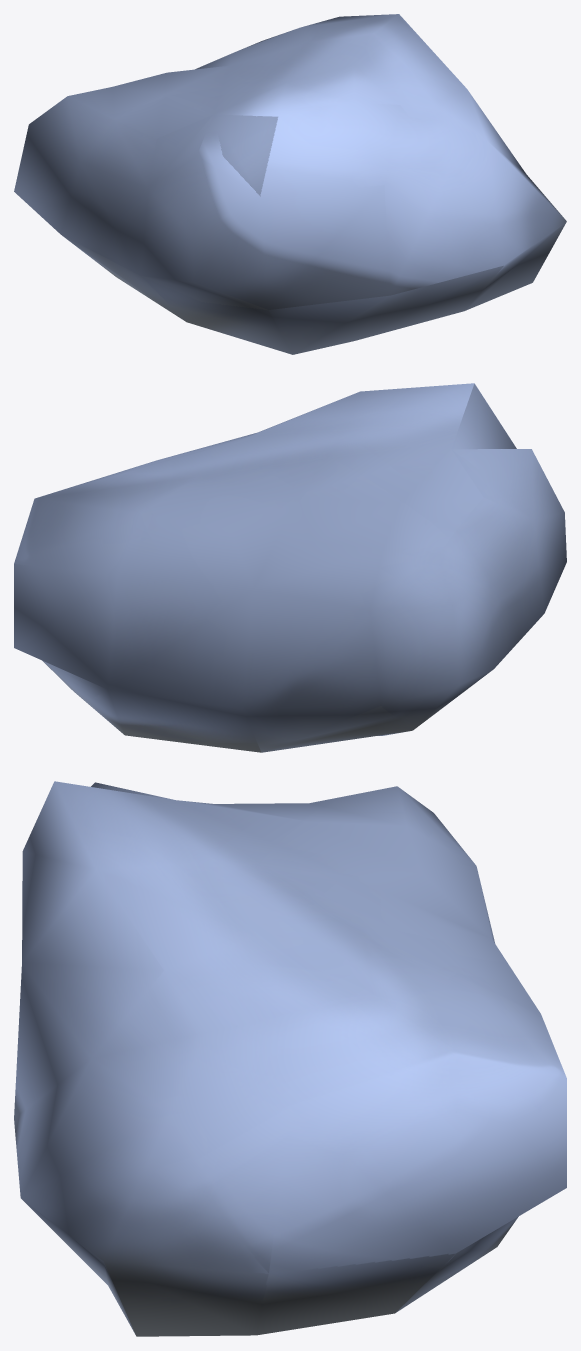
Rendered from stone_low_0001_export.glb.
The picture shows the model from 3 angles, top to bottom: view 1: azimuth 30°, elevation 25°; view 2: azimuth 150°, elevation 25°; view 3: azimuth 270°, elevation 25°; orthographic projection. The views are drawn at different scales.
Visible parts, largest first — view 1: Cube.003; view 2: Cube.003; view 3: Cube.003.
Boxes of the visible parts, left/top/right/bottom form: Cube.003: left=14, top=14, right=566, bottom=354; Cube.003: left=14, top=383, right=566, bottom=752; Cube.003: left=14, top=781, right=566, bottom=1336.
Bounding box in the file's own units: 19.11 × 10.78 × 14.48.
Materials: 1 (1 with a texture image).
